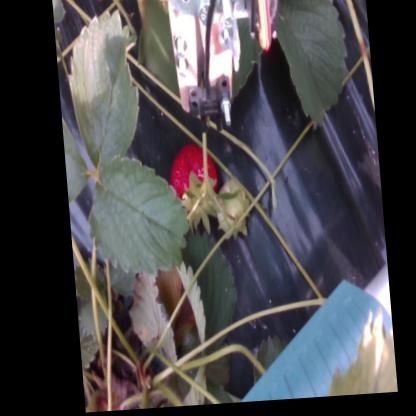ripe: (164, 144, 222, 230)
